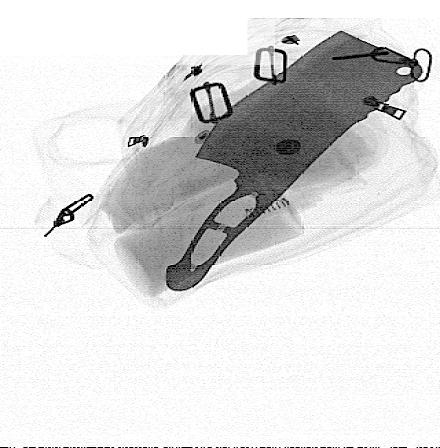Knife: (165, 30, 424, 293)
